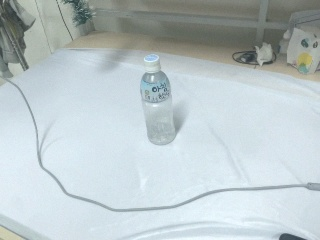bottle: (139, 53, 176, 146)
